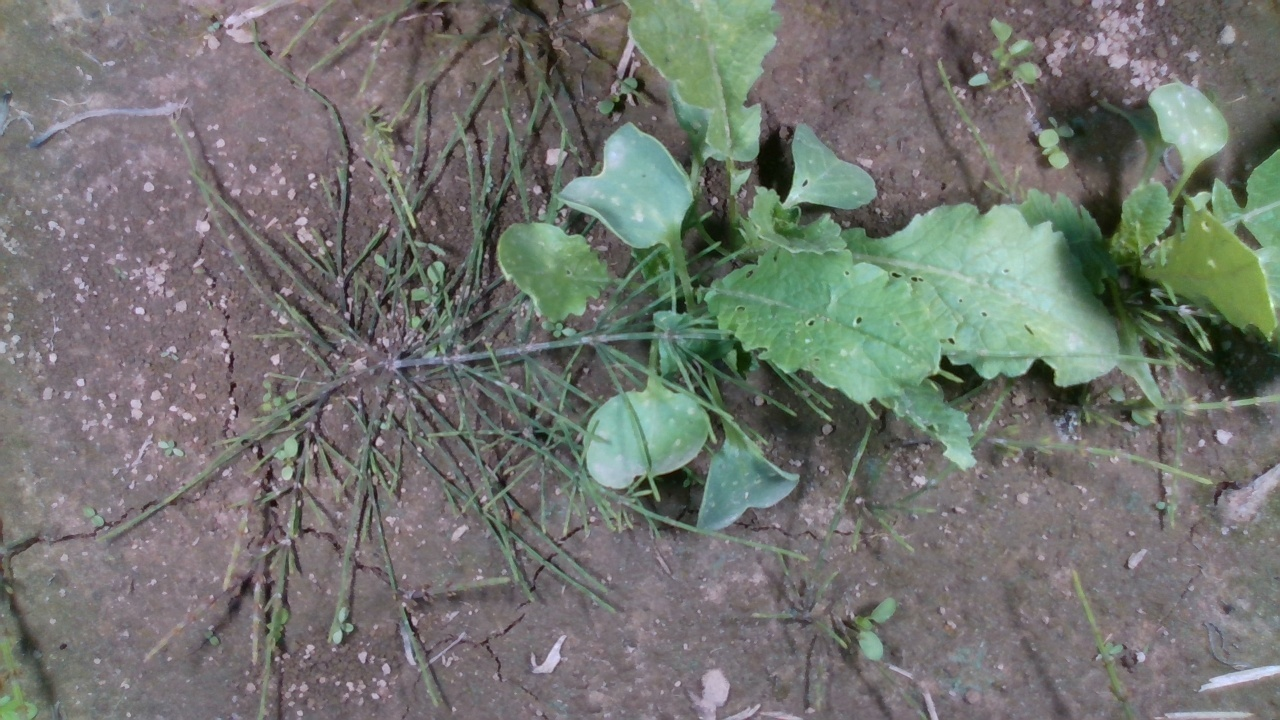weed: (82, 506, 106, 527), (202, 627, 222, 647)
